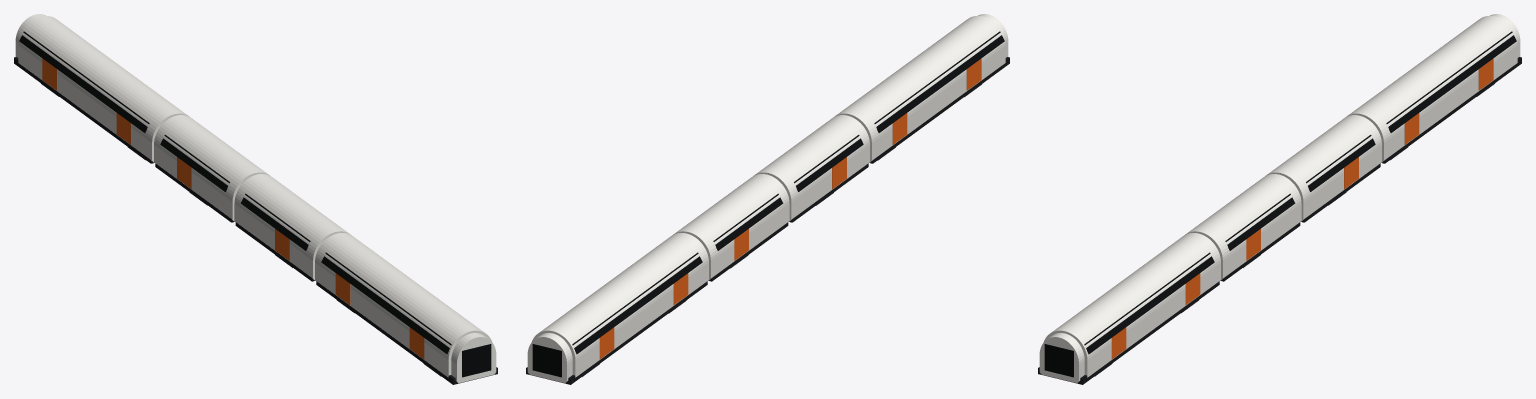
File: train_lod.glb
3 renders of one model, left to right at view 1: azimuth 30°, elevation 25°; view 2: azimuth 150°, elevation 25°; view 3: azimuth 330°, elevation 25°, orthographic.
Parts seen in each view (by area): view 1: car_3_body, car_0_body, car_2_body, car_1_body; view 2: car_0_body, car_3_body, car_1_body, car_2_body; view 3: car_3_body, car_0_body, car_2_body, car_1_body.
Part boxes in pixels (left/top/right/bottom): car_3_body: left=315, top=233, right=497, bottom=384; car_0_body: left=14, top=14, right=189, bottom=163; car_2_body: left=234, top=174, right=350, bottom=281; car_1_body: left=154, top=115, right=270, bottom=222; car_0_body: left=526, top=233, right=708, bottom=384; car_3_body: left=834, top=14, right=1009, bottom=163; car_1_body: left=673, top=174, right=789, bottom=281; car_2_body: left=753, top=115, right=869, bottom=222; car_3_body: left=1038, top=233, right=1220, bottom=384; car_0_body: left=1346, top=14, right=1521, bottom=163; car_2_body: left=1185, top=174, right=1301, bottom=281; car_1_body: left=1265, top=115, right=1381, bottom=222.
Bounding box in the file's own units: 2.37 × 2.61 × 39.33.
